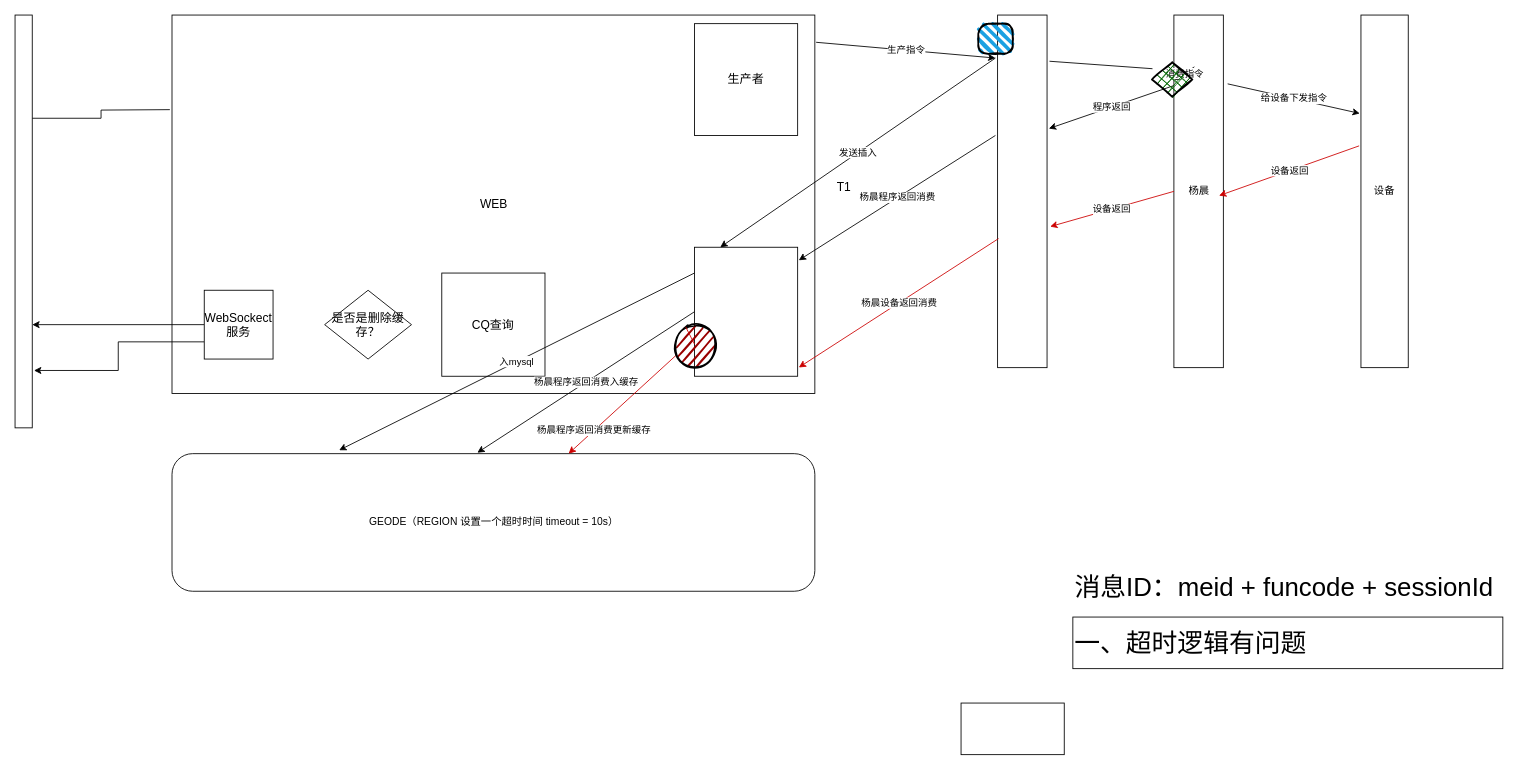
Some shapes in this 1535 by 770 pixel diagram are drawn without their labels. The shapes that lost their labels are listed below. From the top down, each one's box as (x1, y1, x2, y2) in pixels, then its label:
(997, 14, 1047, 368): MQ
(14, 14, 32, 428): 前端
(694, 246, 798, 376): 消费者
(960, 702, 1064, 755): 界面 分库
